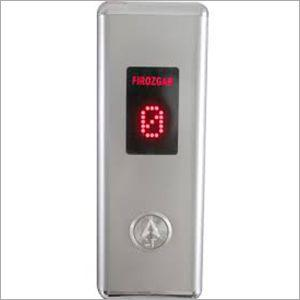up: (128, 210, 172, 251)
